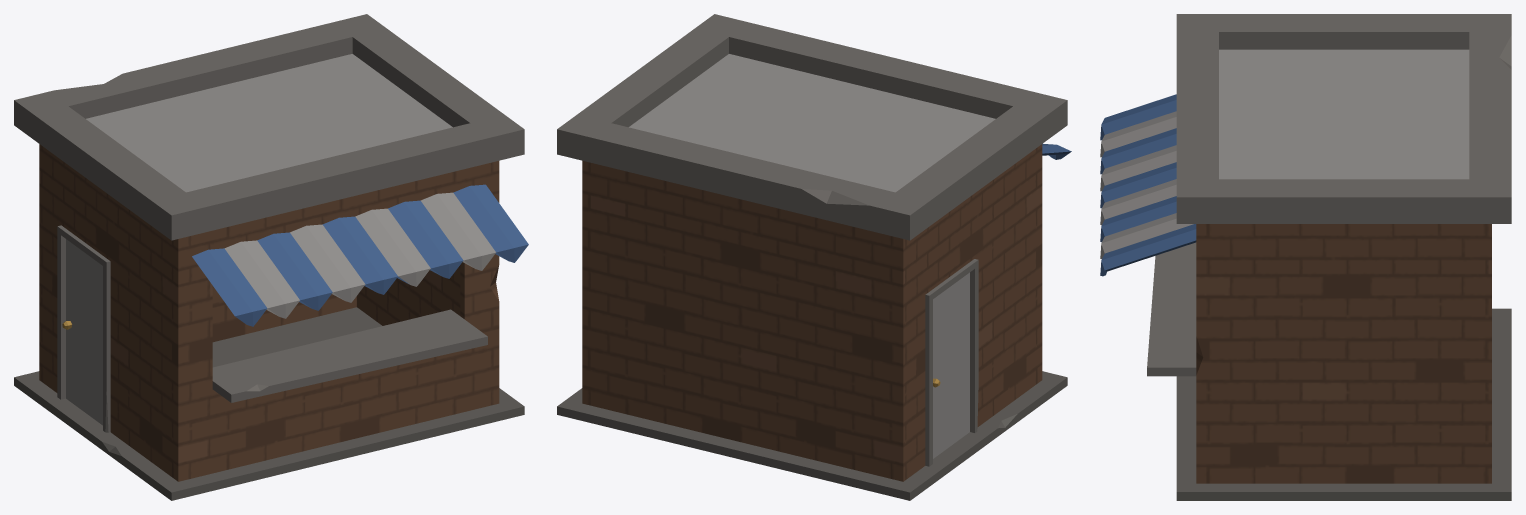
Rendered from SM_Bldg_City_AmusementPark_Stall.fbx.
The picture shows the model from 3 angles, left to right: view 1: azimuth 30°, elevation 25°; view 2: azimuth 150°, elevation 25°; view 3: azimuth 270°, elevation 25°; orthographic projection. The views are drawn at different scales.
Visible parts, largest first — view 1: SM_Bldg_City_AmusementPark_Stall, SM_Bldg_City_AmusementPark_Stall_Door; view 2: SM_Bldg_City_AmusementPark_Stall, SM_Bldg_City_AmusementPark_Stall_Door; view 3: SM_Bldg_City_AmusementPark_Stall.
Part boxes in pixels (left/top/right/bottom): SM_Bldg_City_AmusementPark_Stall: left=14, top=14, right=528, bottom=500; SM_Bldg_City_AmusementPark_Stall_Door: left=62, top=239, right=102, bottom=425; SM_Bldg_City_AmusementPark_Stall: left=557, top=14, right=1071, bottom=500; SM_Bldg_City_AmusementPark_Stall_Door: left=933, top=272, right=969, bottom=458; SM_Bldg_City_AmusementPark_Stall: left=1100, top=14, right=1511, bottom=500.
Size of the model in its own units: 440 by 340 by 417.
